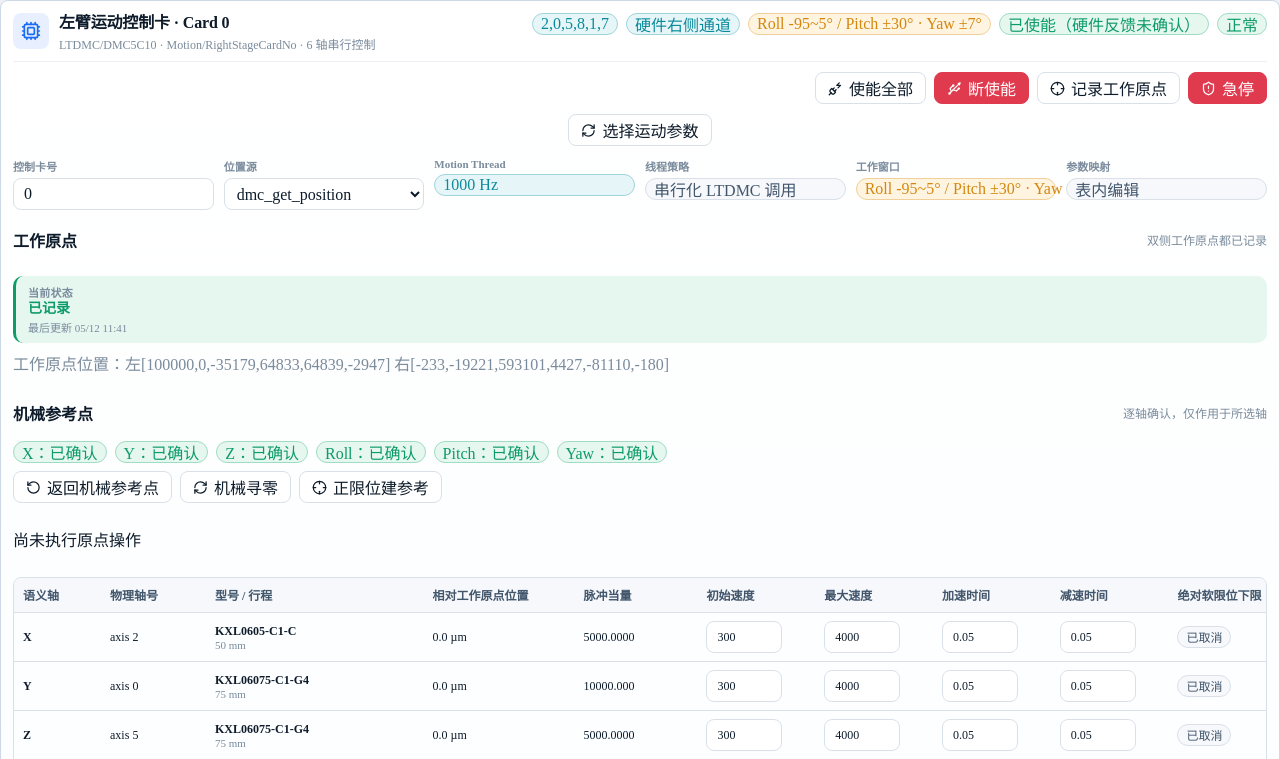
机械参考点选轴 › 寻零请求失败时显示失败并重新读取确认状态
The width and height of the screenshot is (1280, 759).
Click the button "机械寻零" at (236, 487), box top-left (180, 471), bottom-right (291, 503)
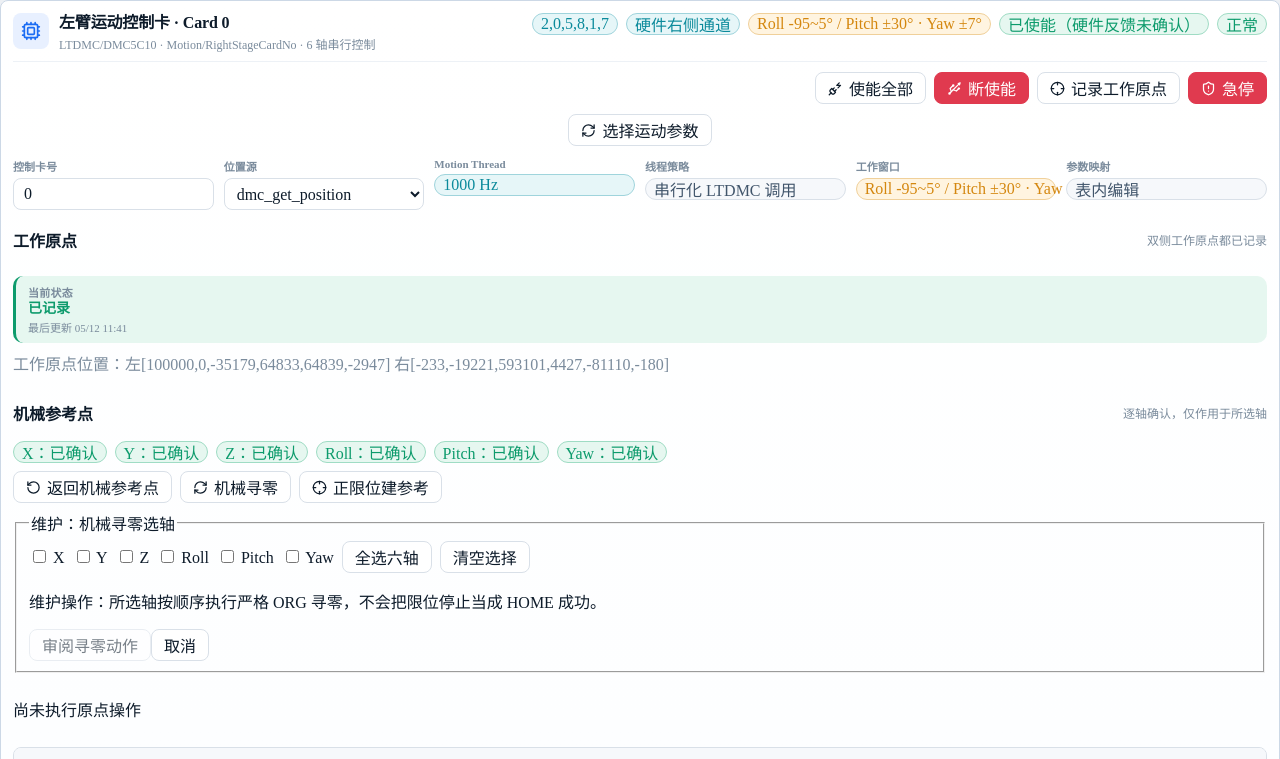
Click the checkbox labelled "Pitch" at (227, 556), box top-left (221, 550), bottom-right (234, 563)
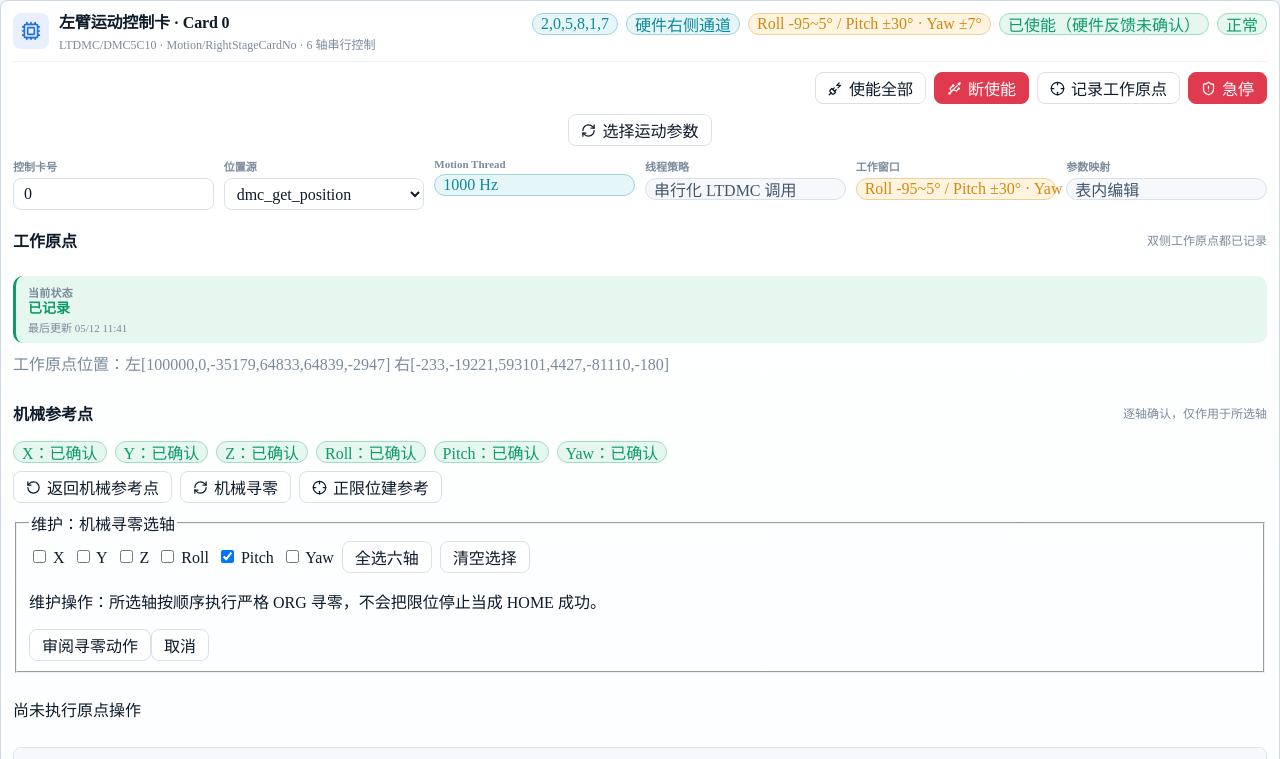
Click the button "审阅寻零动作" at (90, 645), box top-left (29, 629), bottom-right (151, 661)
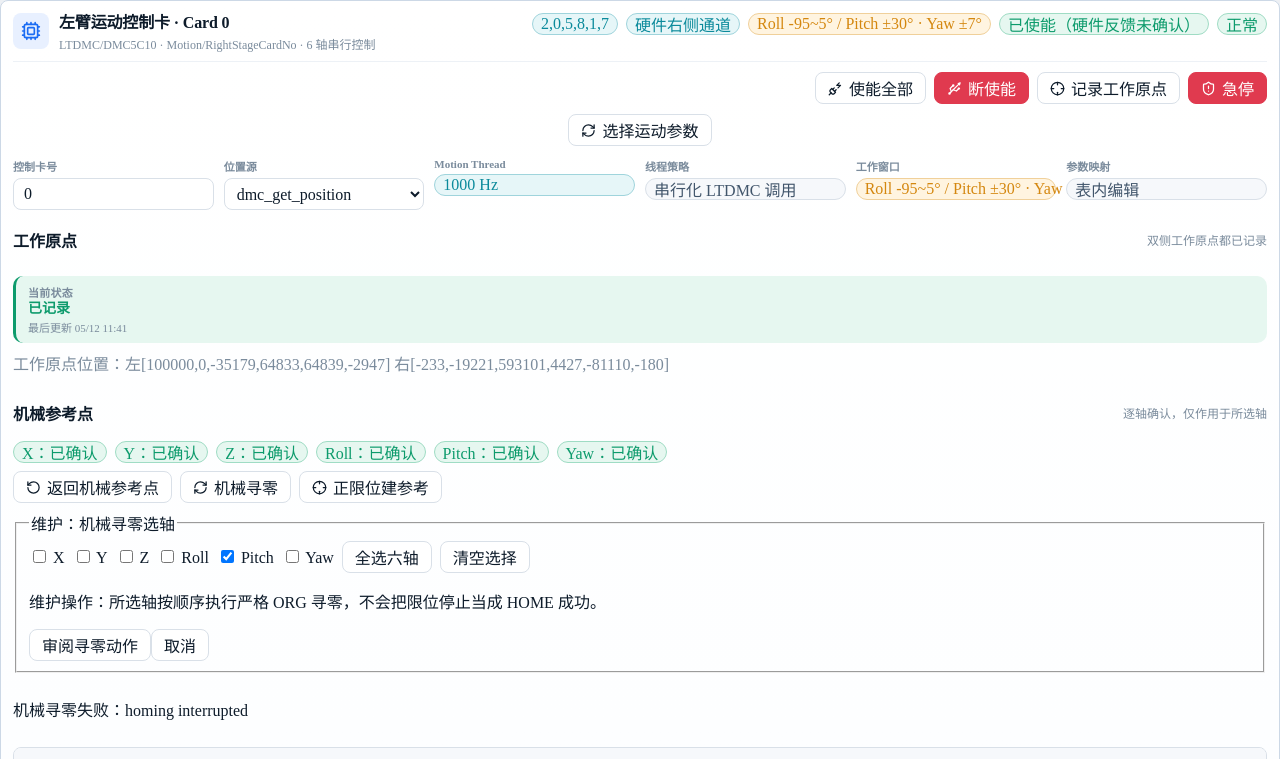
Check: the message named "左臂原点操作状态" shows "失败", box top-left (13, 702), bottom-right (248, 719)
